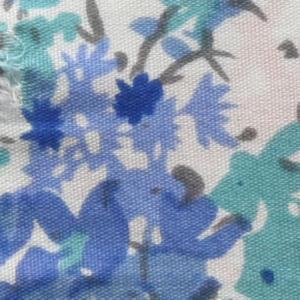Damage: (1, 3, 43, 127)
Stain: (209, 1, 300, 148)
